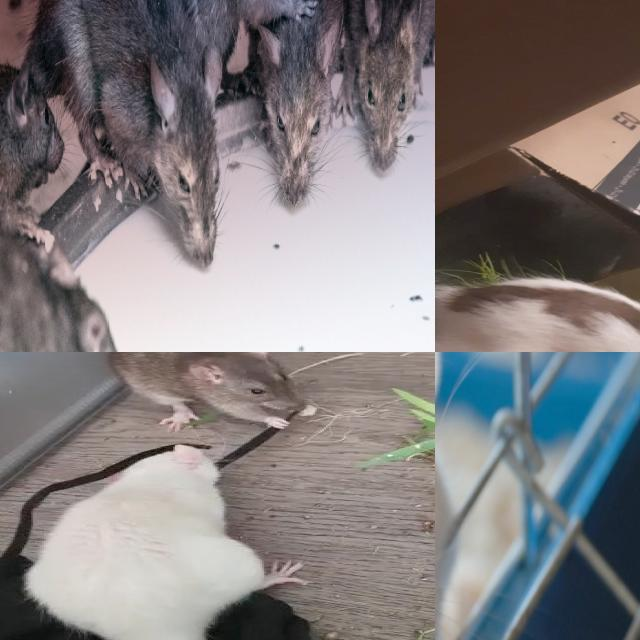rat: (27, 444, 306, 640), (60, 0, 219, 261), (106, 352, 321, 432), (435, 277, 640, 352), (350, 0, 434, 168), (0, 56, 62, 204)
